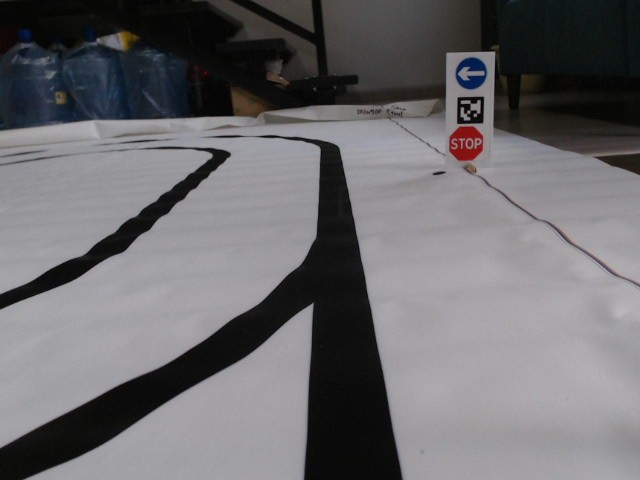Stop: (449, 125, 483, 160)
